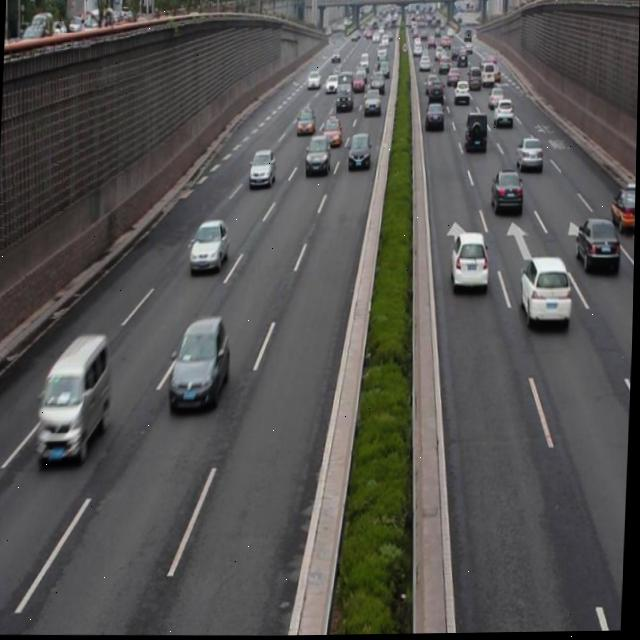car: (168, 314, 231, 415), (520, 255, 572, 321), (575, 216, 620, 277), (450, 230, 489, 290), (189, 217, 230, 274), (490, 168, 522, 217), (611, 185, 637, 236), (248, 147, 277, 189), (304, 134, 332, 176), (516, 135, 544, 176), (345, 131, 372, 173), (463, 111, 488, 156), (320, 115, 341, 148), (295, 105, 316, 137), (424, 101, 445, 132), (492, 99, 514, 128)
truck: (35, 331, 112, 463)
